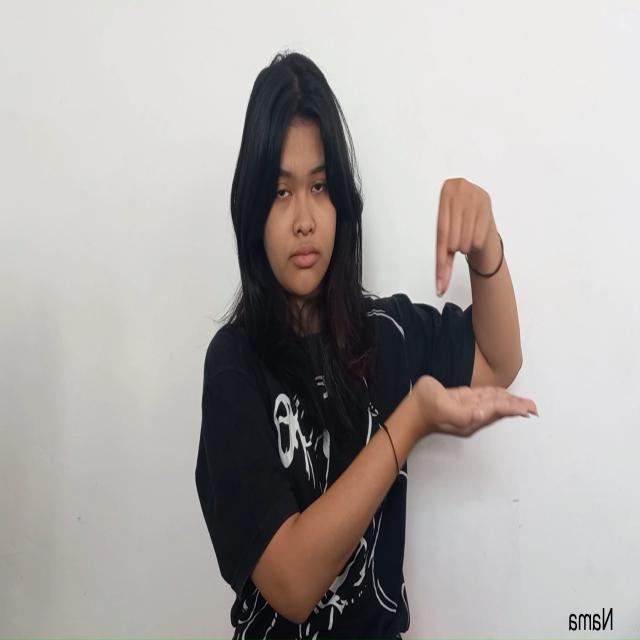Nama -BISINDO-: (414, 176, 540, 443)
